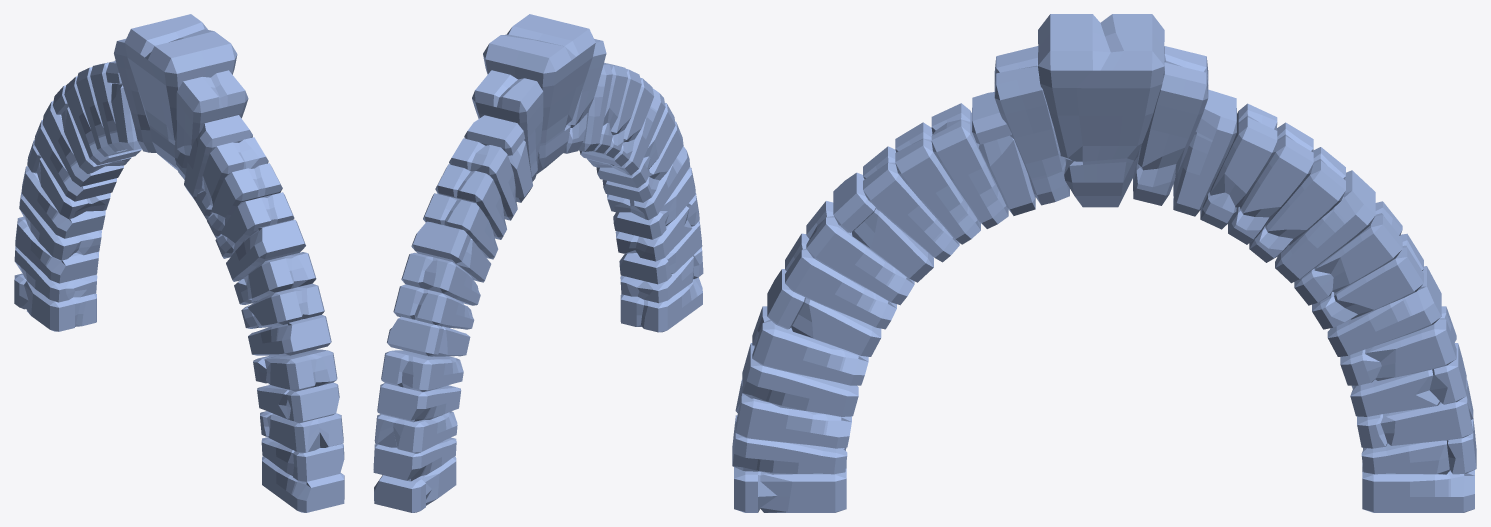
The model's file is Vampire_Assets_Arc.fbx.
3 renders of one model, left to right at view 1: azimuth 30°, elevation 25°; view 2: azimuth 150°, elevation 25°; view 3: azimuth 270°, elevation 25°, orthographic. The views are drawn at different scales.
Parts seen in each view (by area): view 1: Cube.003; view 2: Cube.003; view 3: Cube.003.
Boxes of the visible parts, x1=… form: Cube.003: x1=14, y1=14, x2=344, y2=512; Cube.003: x1=373, y1=14, x2=703, y2=512; Cube.003: x1=732, y1=14, x2=1476, y2=512.
Size of the model in its own units: 335 by 1614 by 2319.
